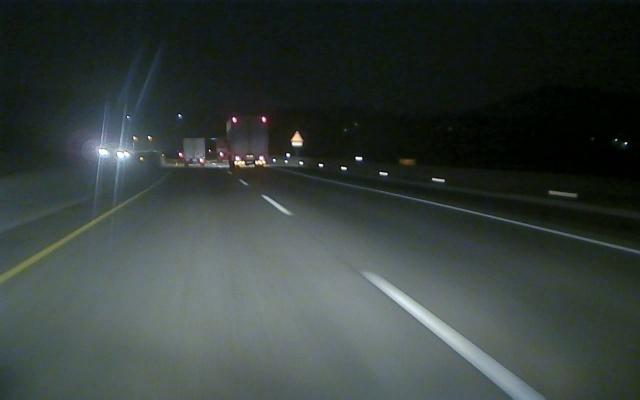lane: (248, 184, 544, 399), (385, 191, 640, 255), (1, 223, 92, 281)
